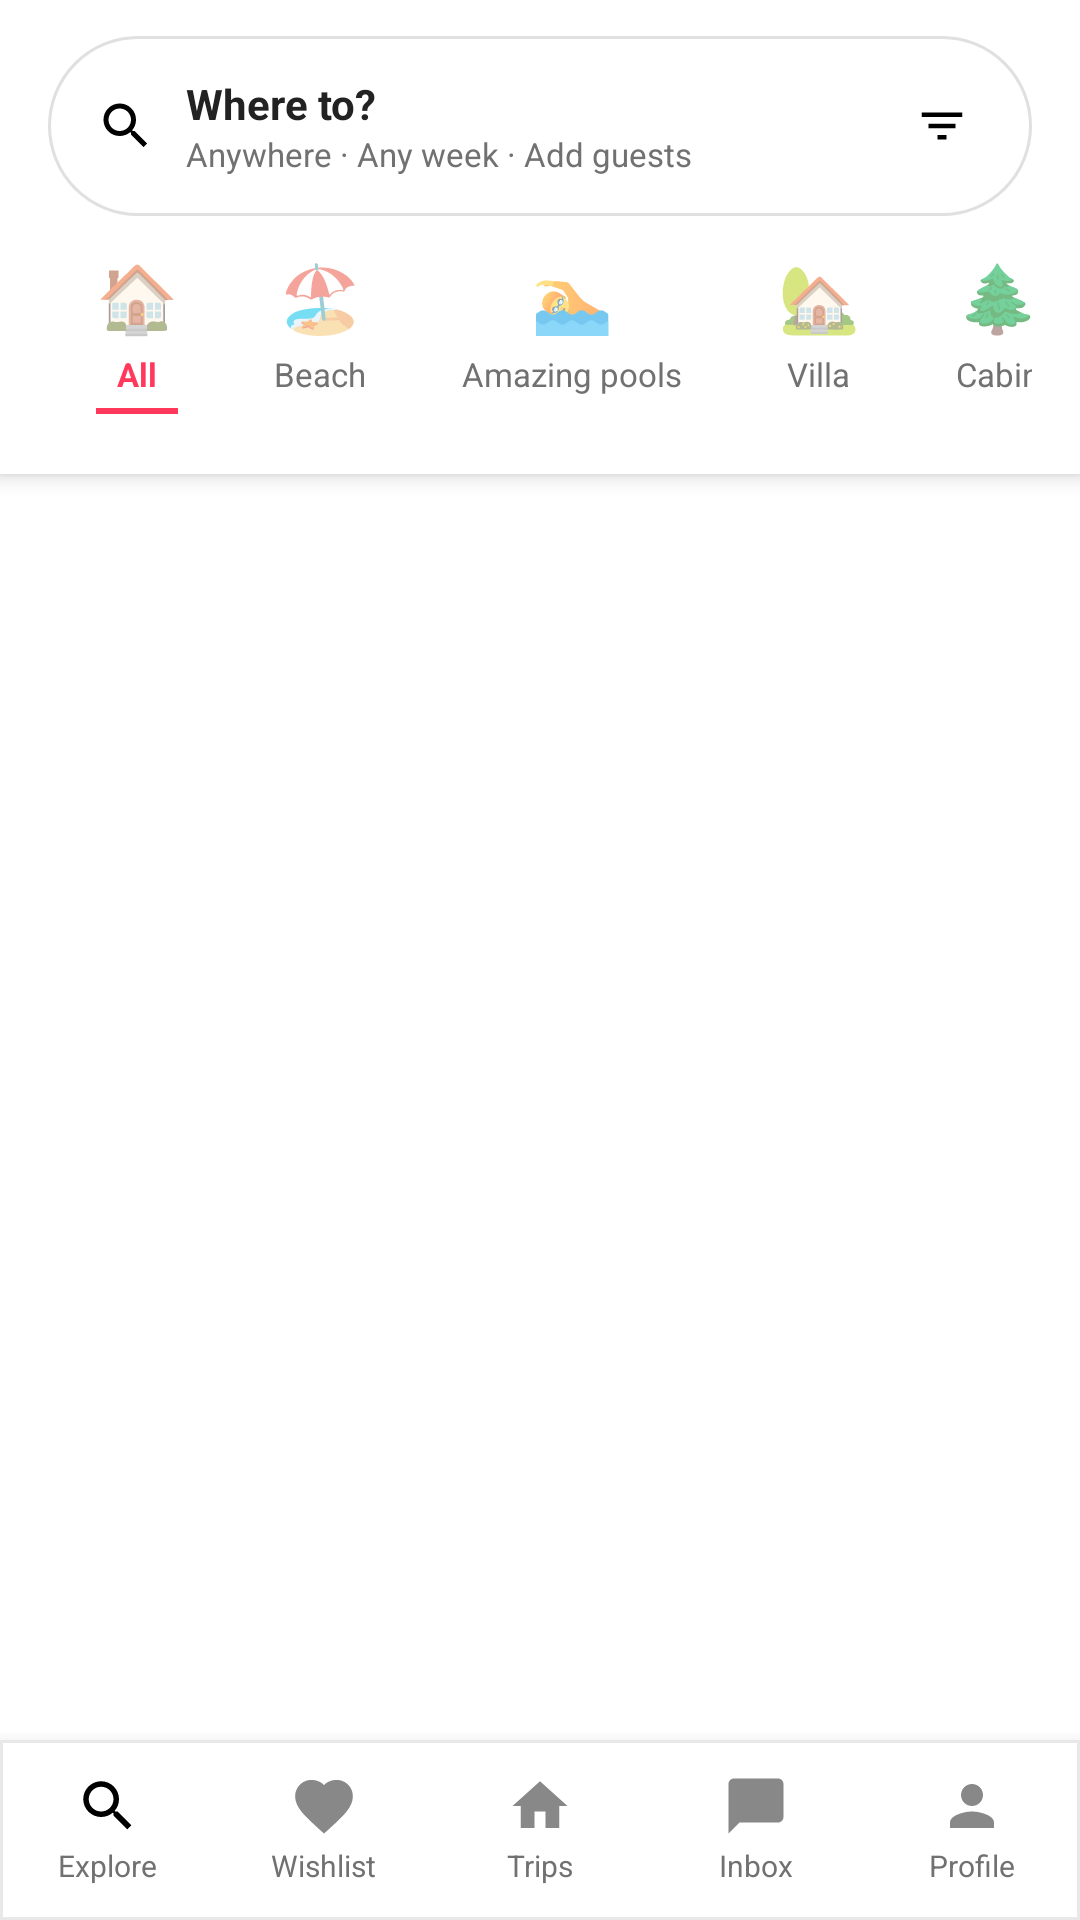

Icons on this 1080w x 1920h Android screen, each with the point to tap as (x=x, y=y):
filter: (x=942, y=126)
search: (x=125, y=125), (x=107, y=1805)
